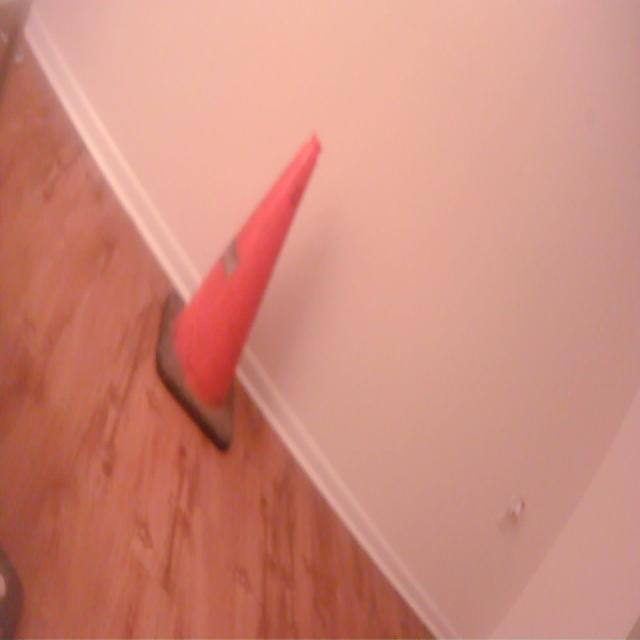traffic cone: (152, 123, 327, 460)
